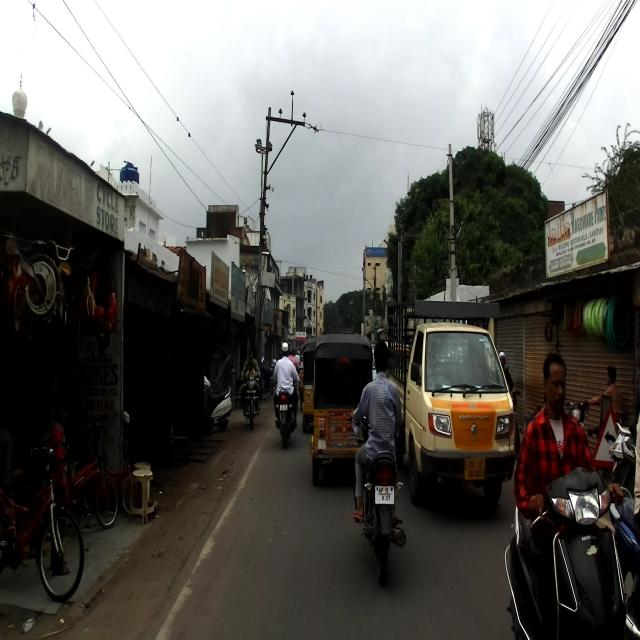autorickshaw: (310, 332, 373, 486)
motorcycle: (346, 414, 406, 586), (273, 378, 300, 449)
scooter: (504, 467, 628, 639), (202, 373, 233, 432)
truck: (386, 298, 515, 507)
